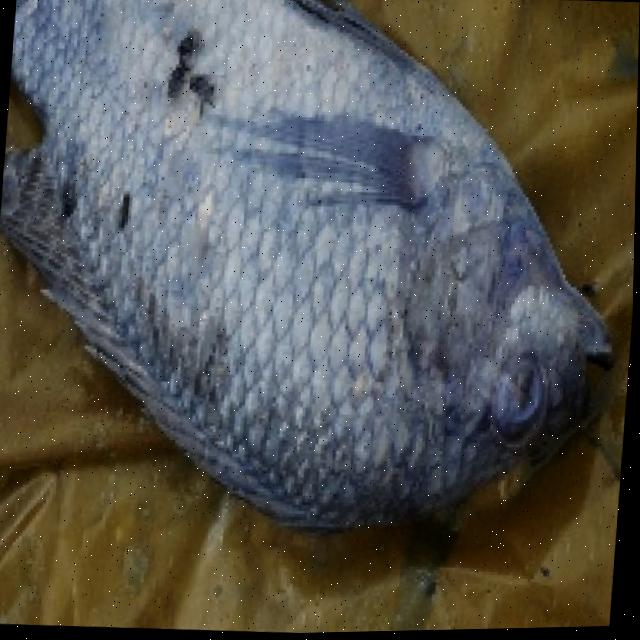Non-Fresh: (0, 0, 634, 484), (448, 340, 564, 469)
